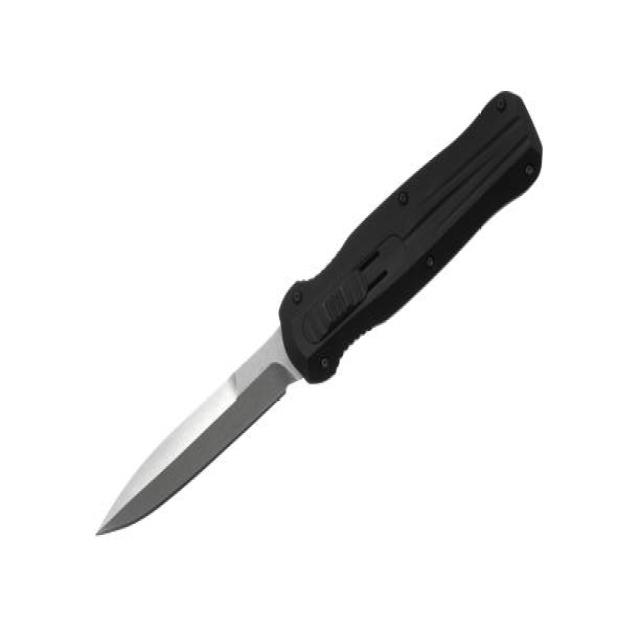knife: (79, 71, 549, 571)
